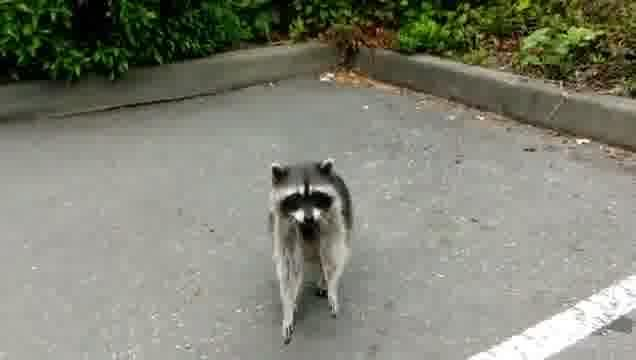raccoon: (263, 154, 358, 358)
